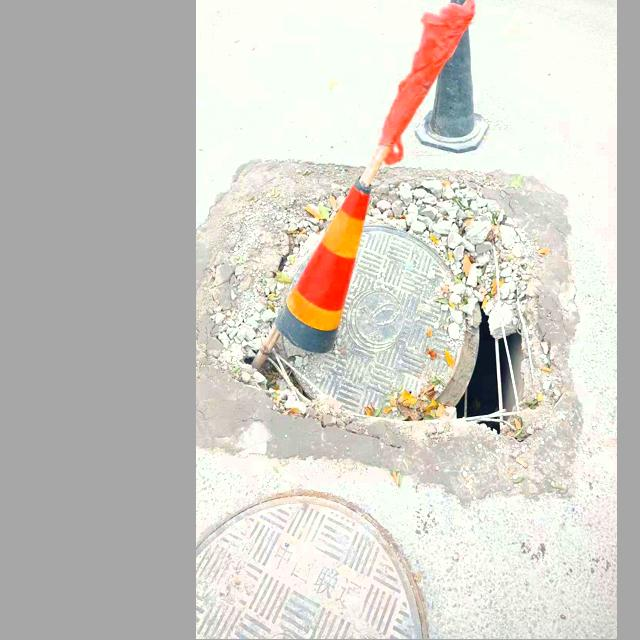circle: (259, 219, 527, 422)
